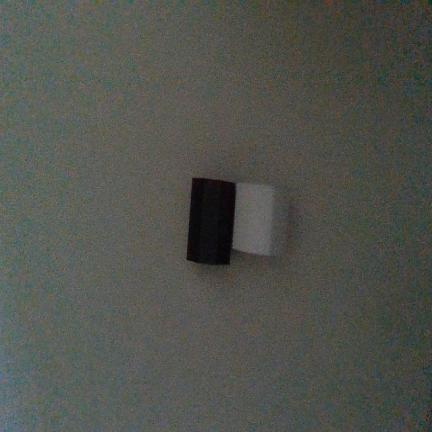Prisma_hexagonal: (186, 178, 236, 265), (232, 183, 290, 256)
